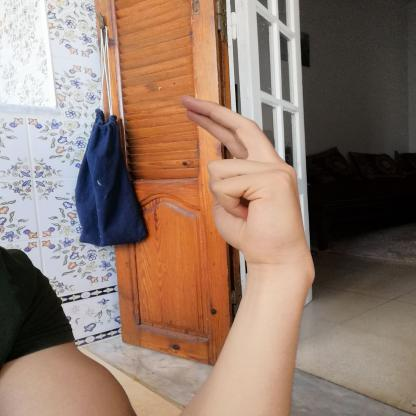ZAY: (169, 89, 321, 275)
